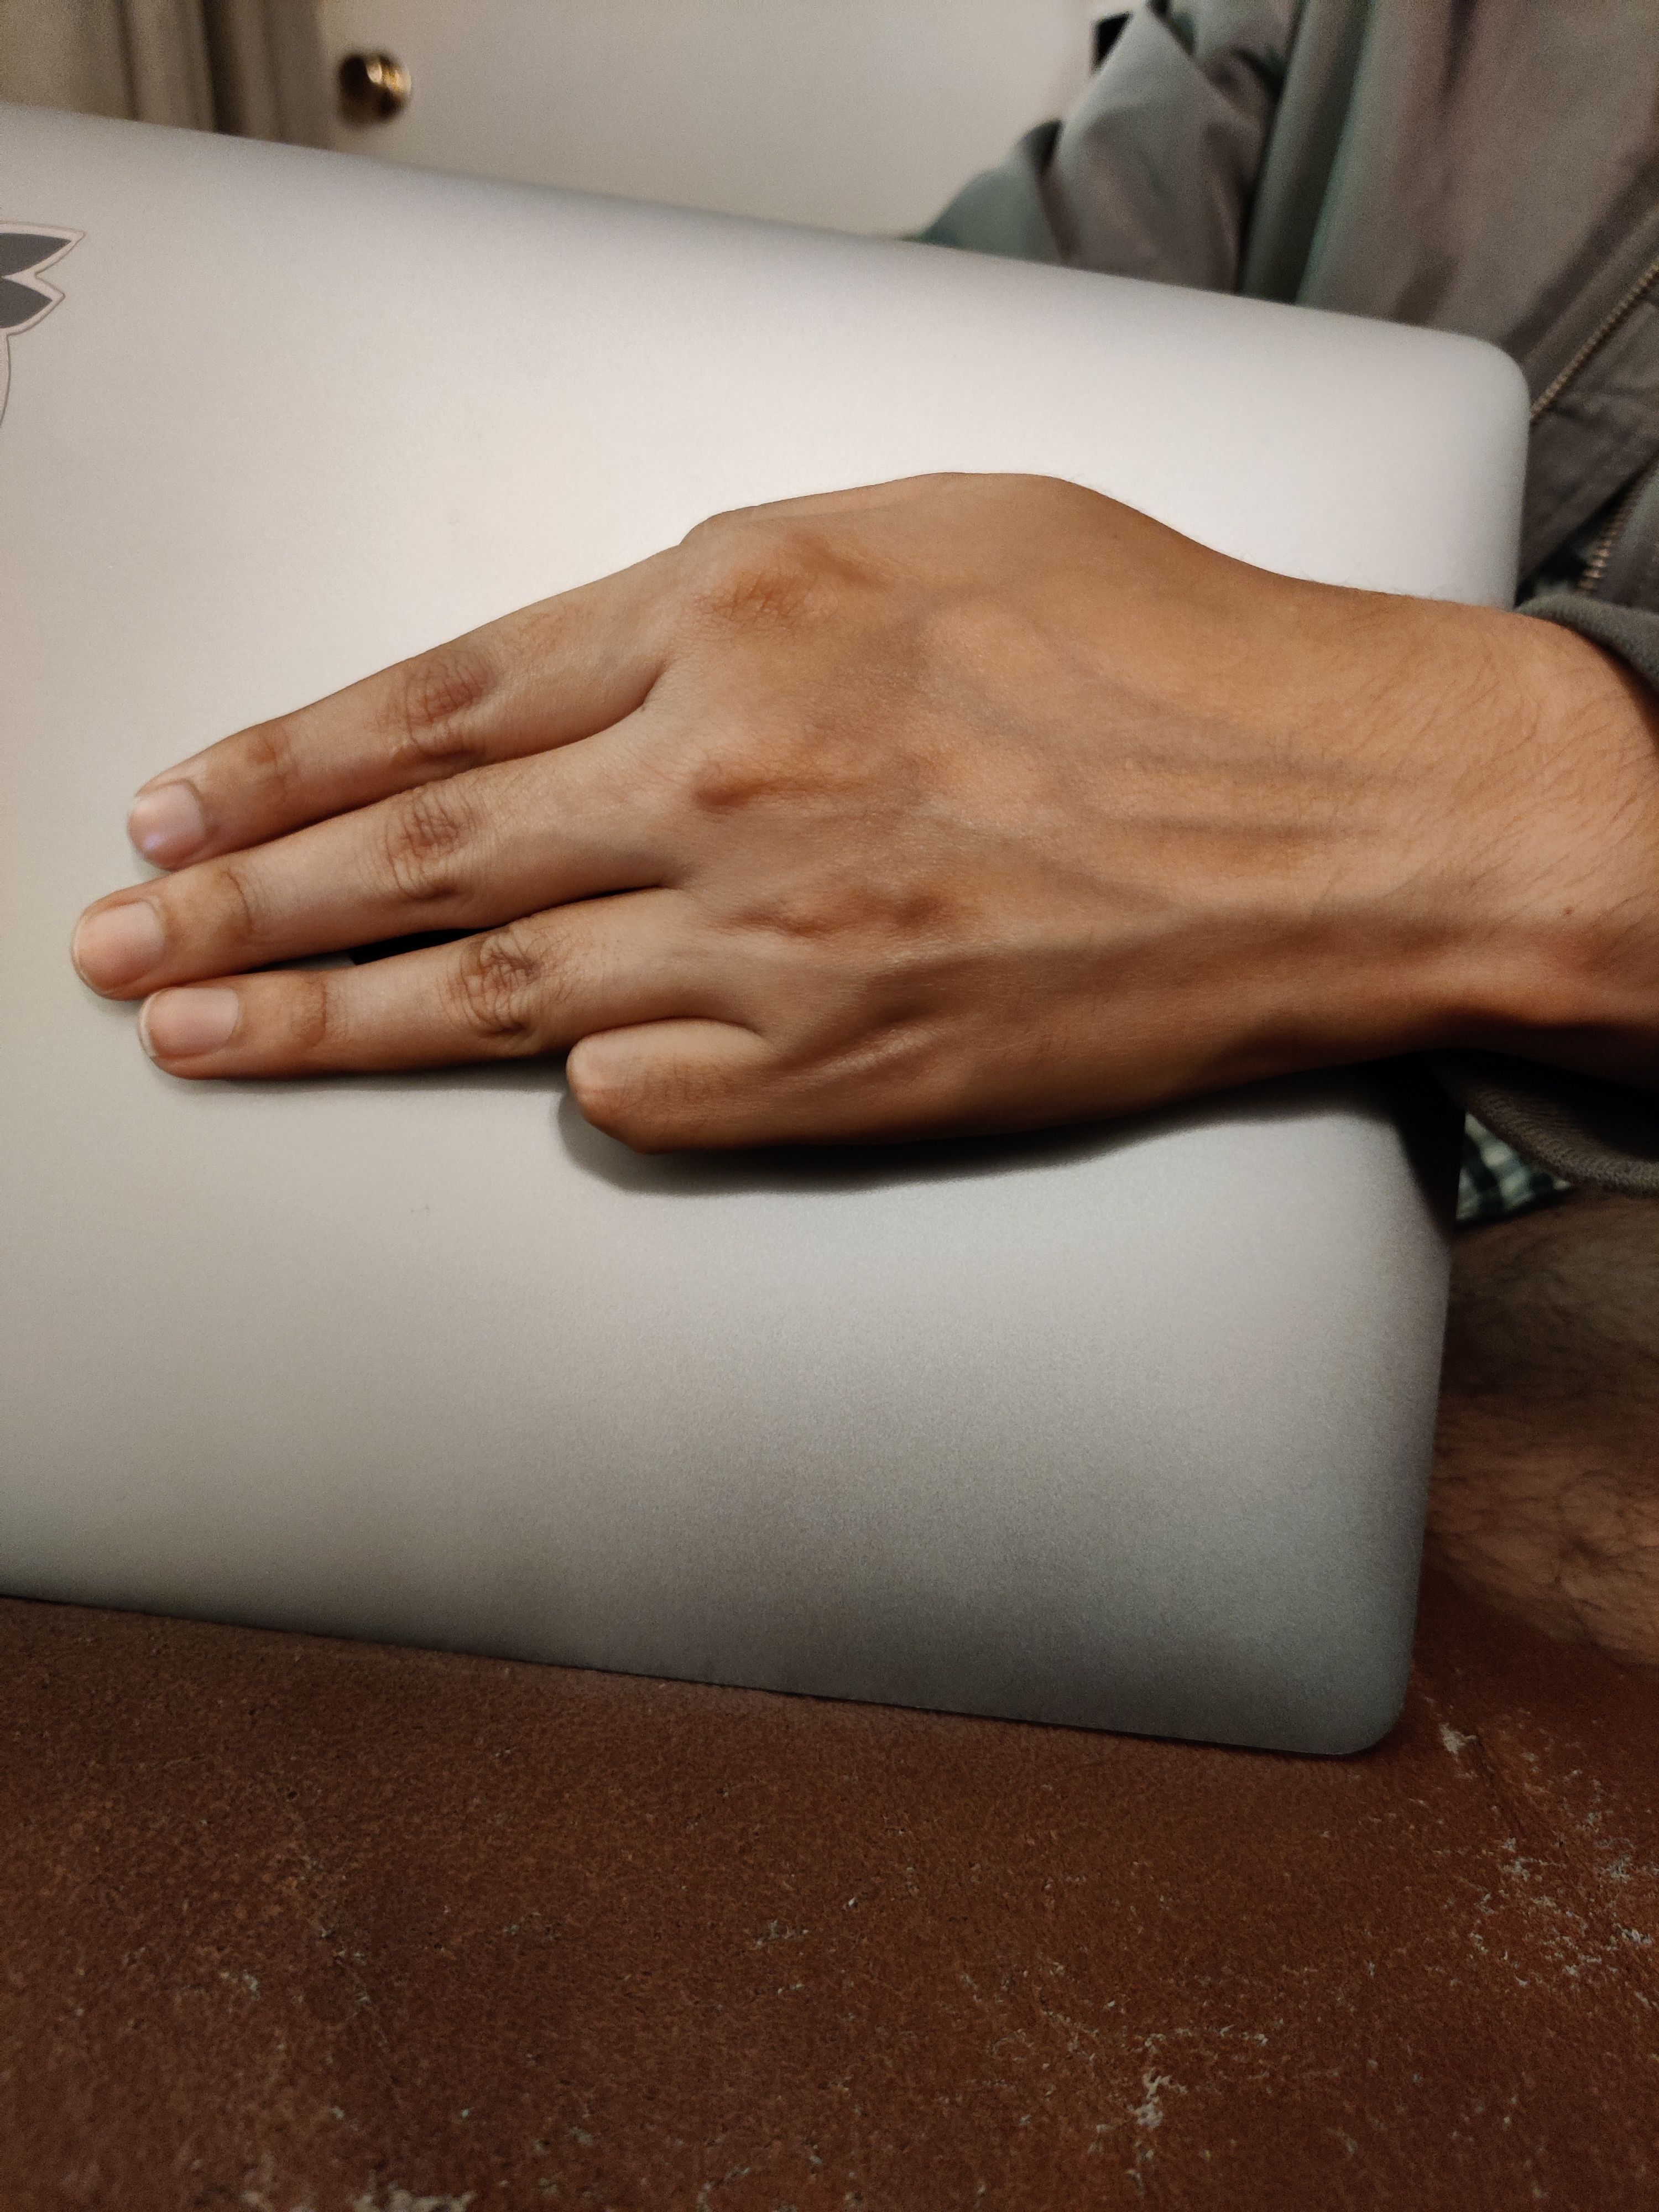right: (31, 394, 1614, 1555)
